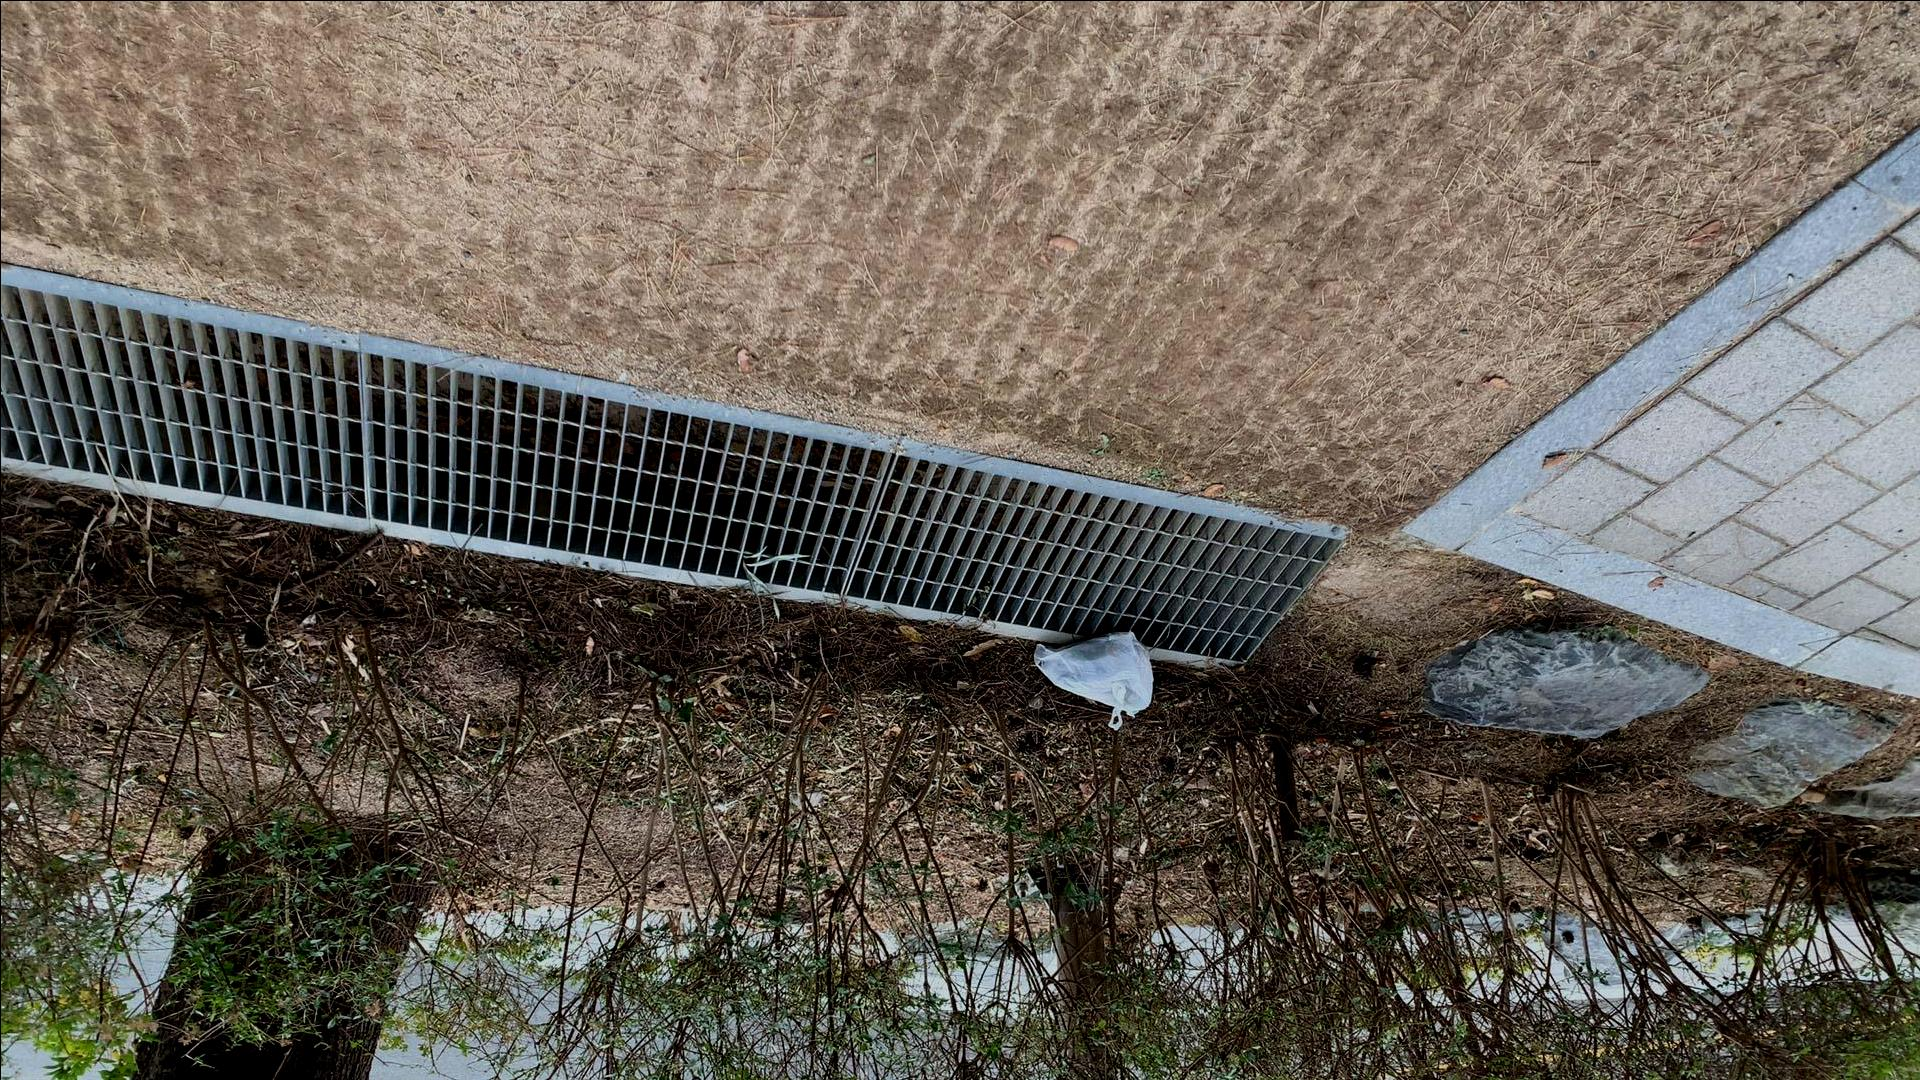white_bag: (1029, 626, 1163, 735)
